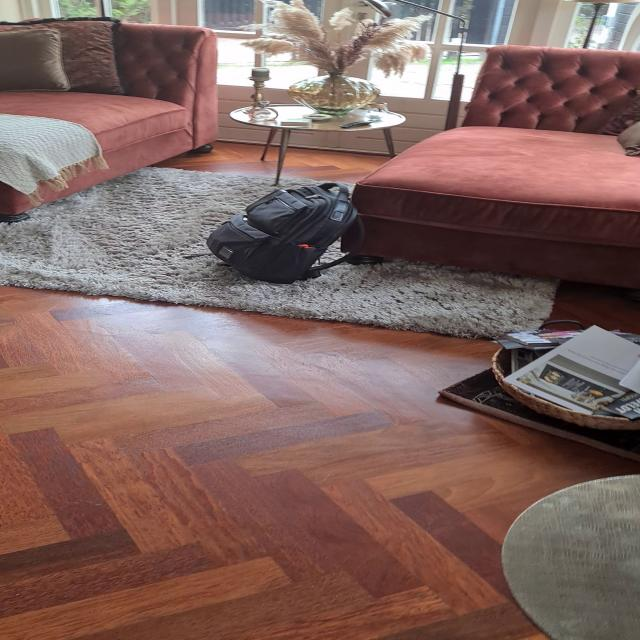backpack: (200, 177, 370, 286)
